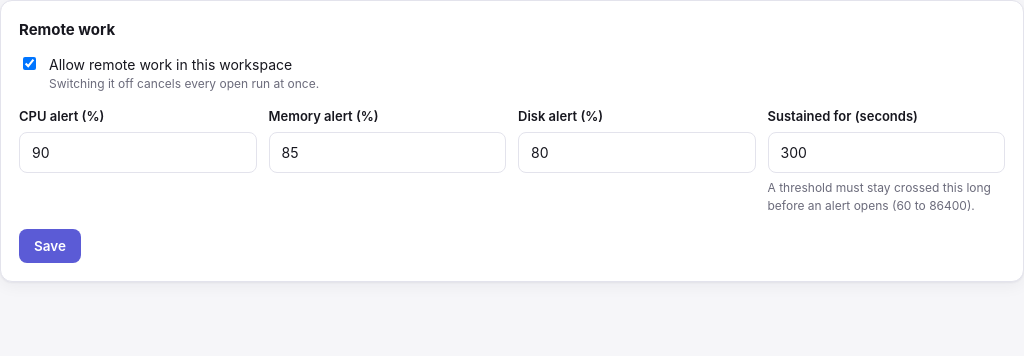
the remote work settings card › shows the stored values to an admin and lets them change them
The image size is (1024, 356).
Expected: the number field labelled "Memory alert (%)" holds "85", [268,132,506,173]
Expected: the number field labelled "Disk alert (%)" holds "80", [518,132,756,173]
Replace the text in the number field labelled "CPU alert (%)" with "70": (138, 152) [19,132,256,173]
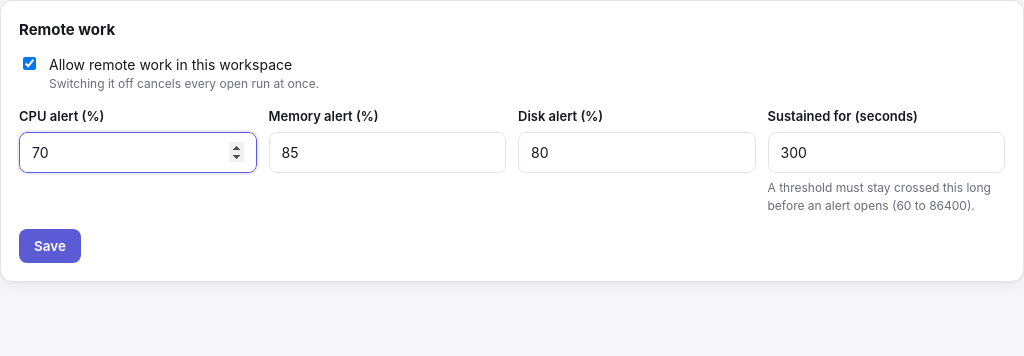
Replace the text in the number field labelled "Memory alert (%)" with "60": (387, 152) [268,132,506,173]
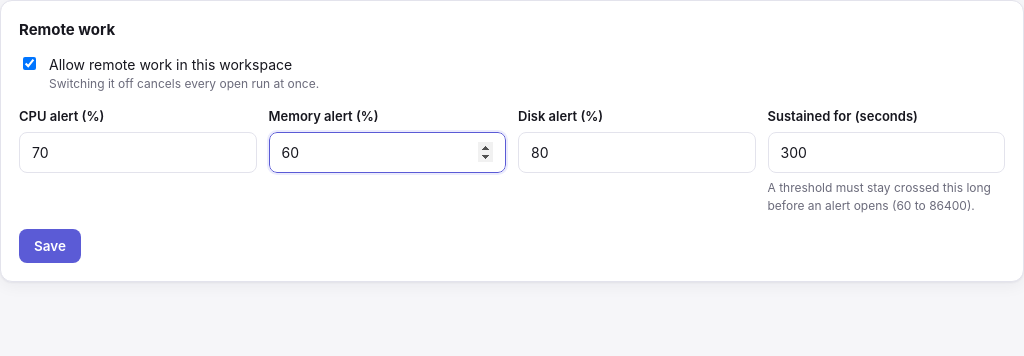
Replace the text in the number field labelled "Disk alert (%)" with "50": (637, 152) [518,132,756,173]
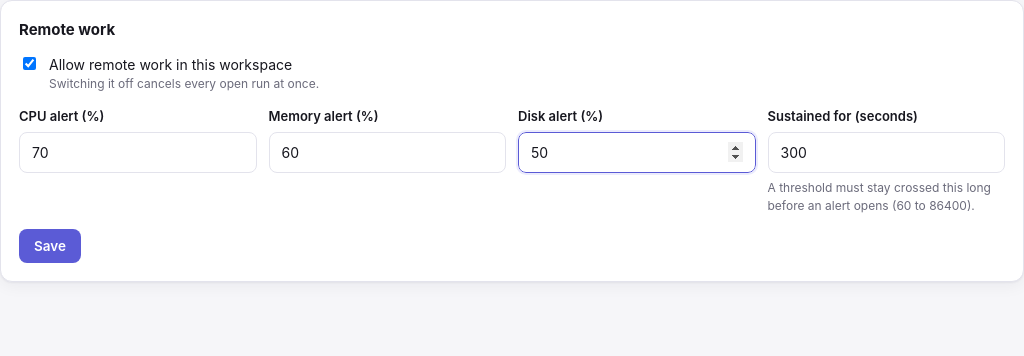
Replace the text in the number field labelled "Sustained for (seconds)" with "600": (886, 152) [768,132,1005,173]
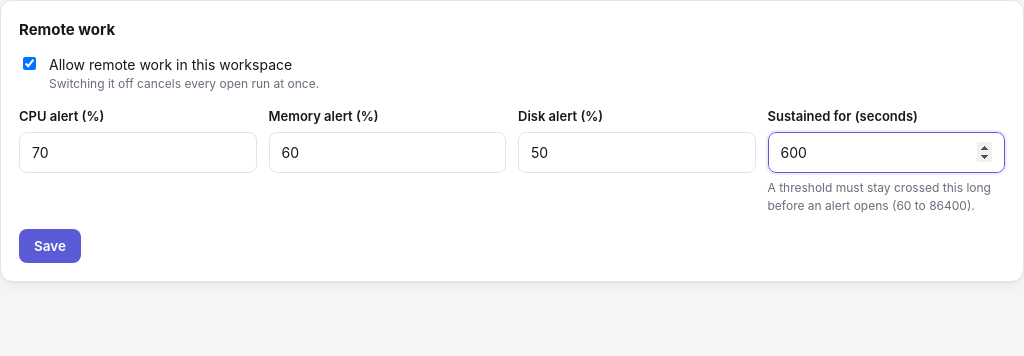
Click the button "Save": (50, 246) [19,229,81,263]
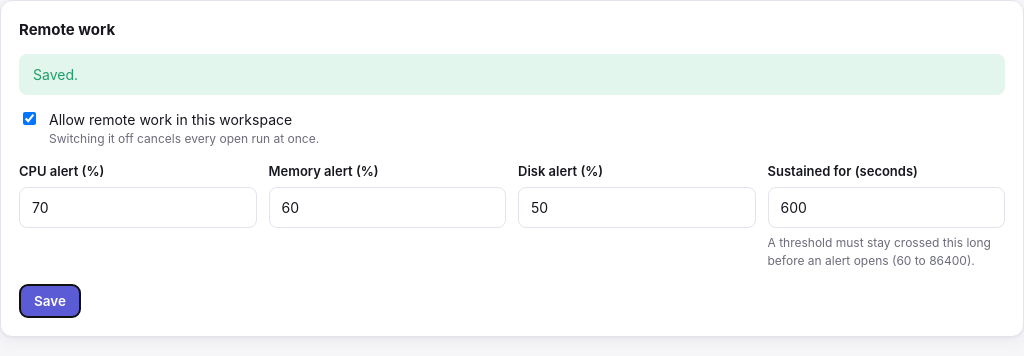
Result: the text "Saved." is shown at [19,54,1005,94]
